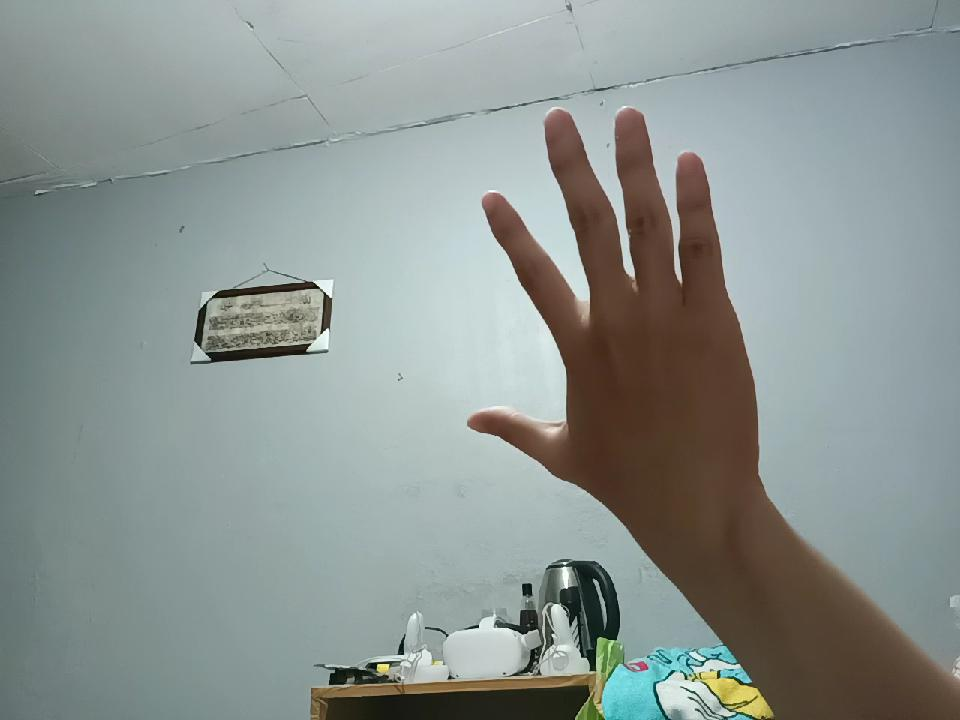paper: (456, 119, 756, 552)
